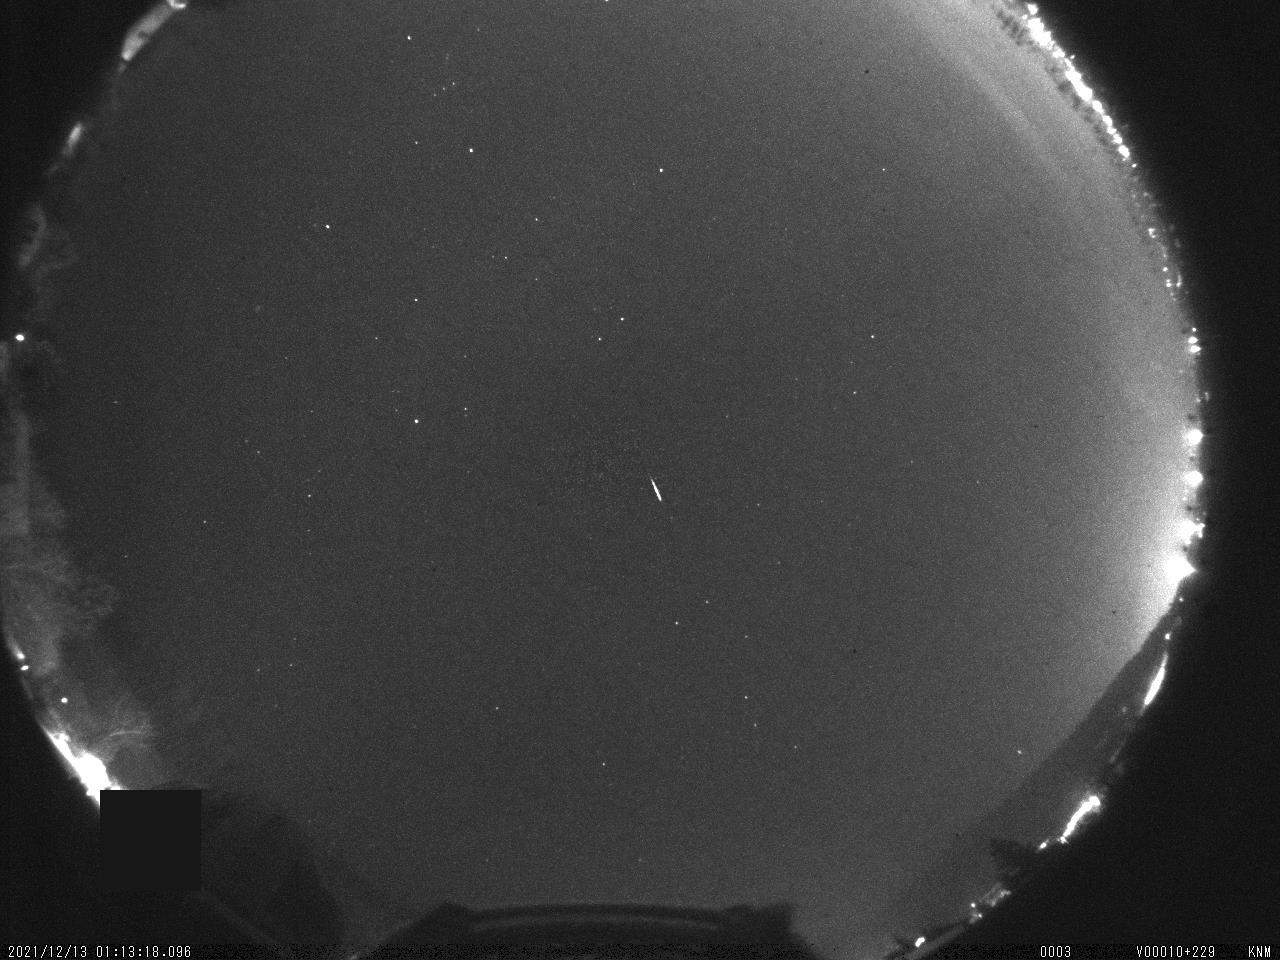meteor: (645, 475, 670, 507)
